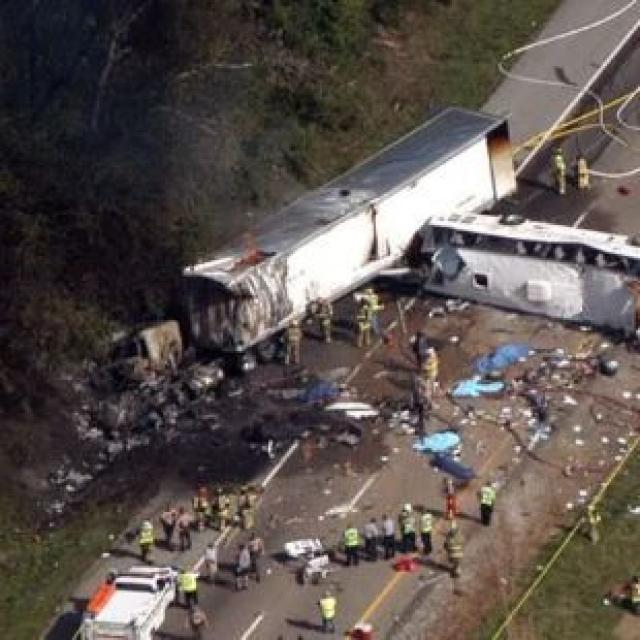traffic_incident: (128, 93, 510, 409), (425, 194, 638, 347)
